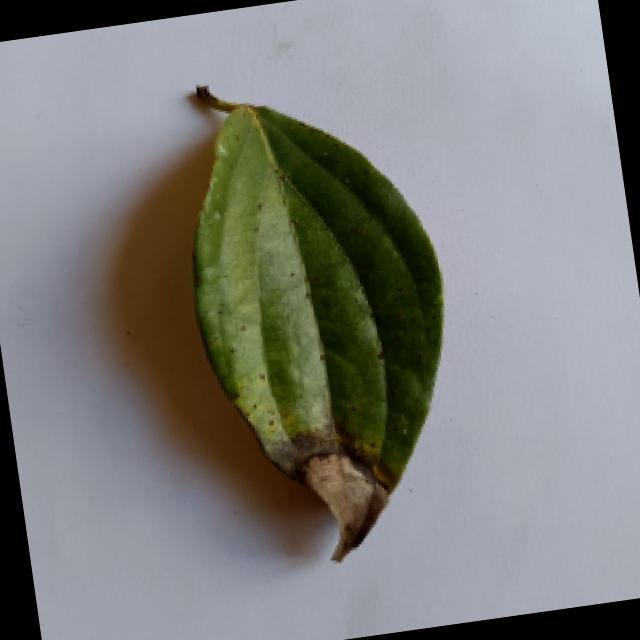footrot: (160, 59, 481, 586)
